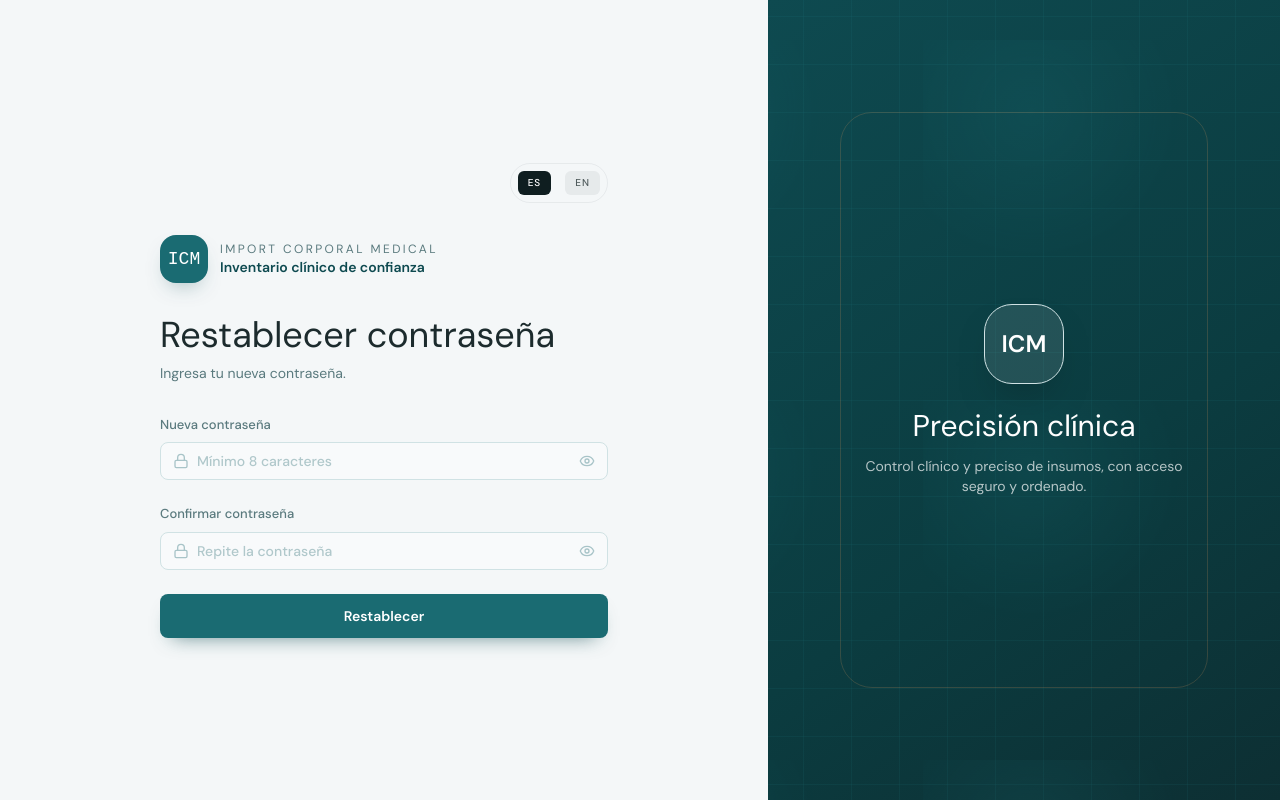
it: ResetPasswordPage — integración › Validaciones client-side › debería mostrar error si la contraseña es menor a 8 caracteres
Type "Ab1!" into the password field labelled "Nueva contraseña". click: (384, 461)
box: [197,451,571,471]
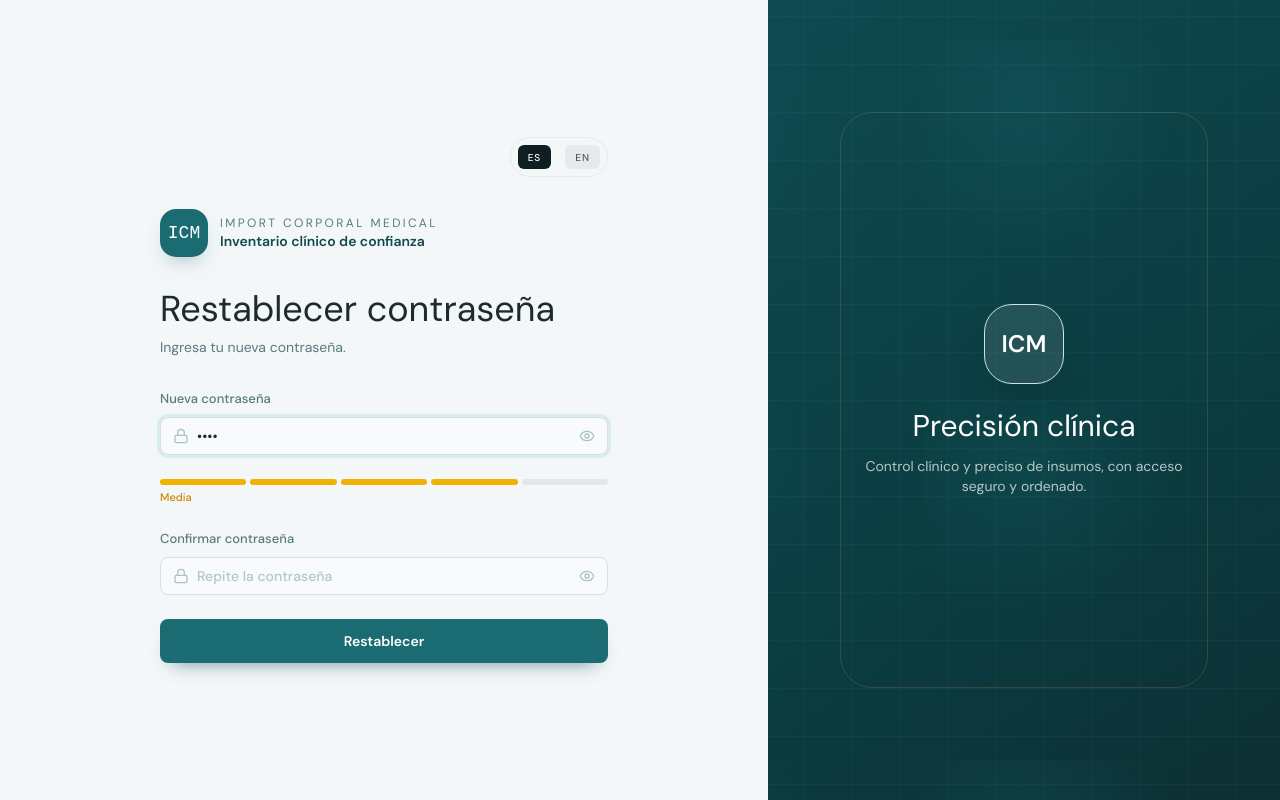
Type "Ab1!" into the password field labelled "Confirmar contraseña". click: (384, 576)
box: [197,566,571,586]
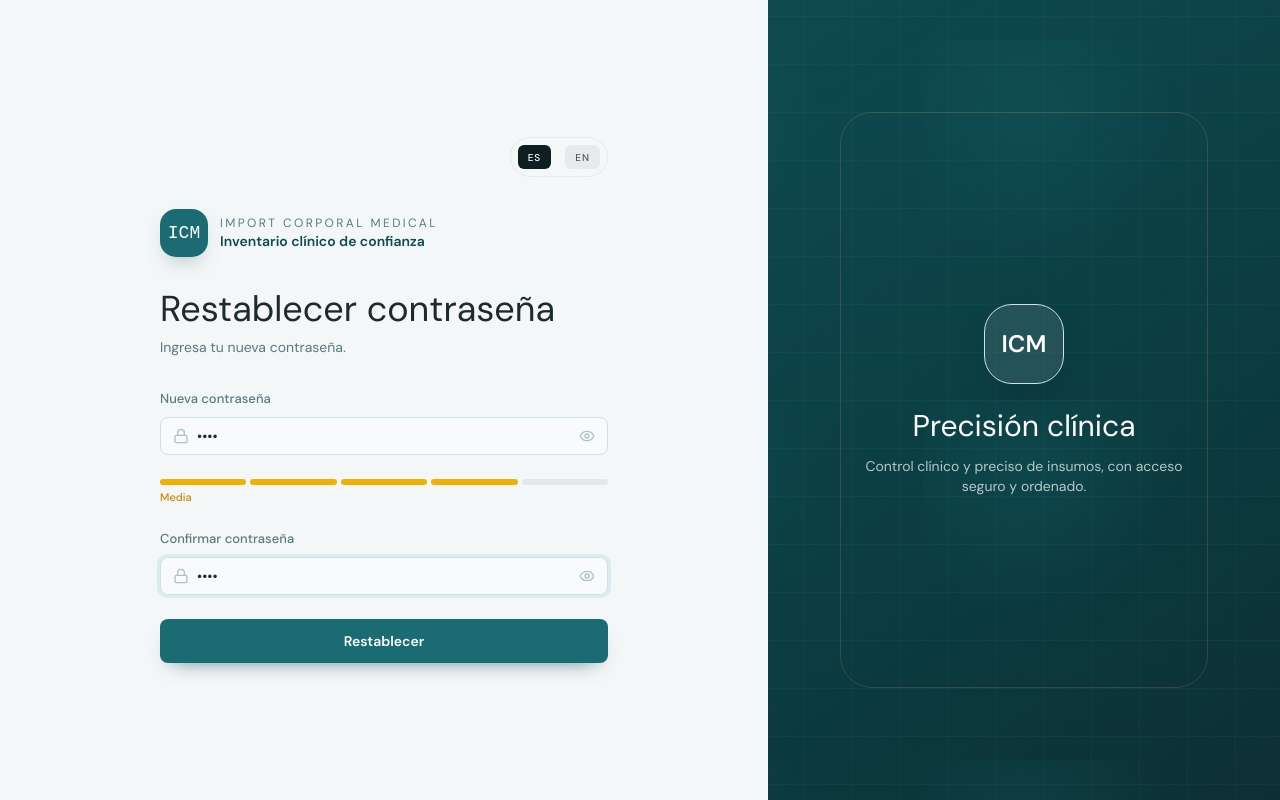
Click the button "Restablecer". click: (384, 641)
box: [160,619,608,663]
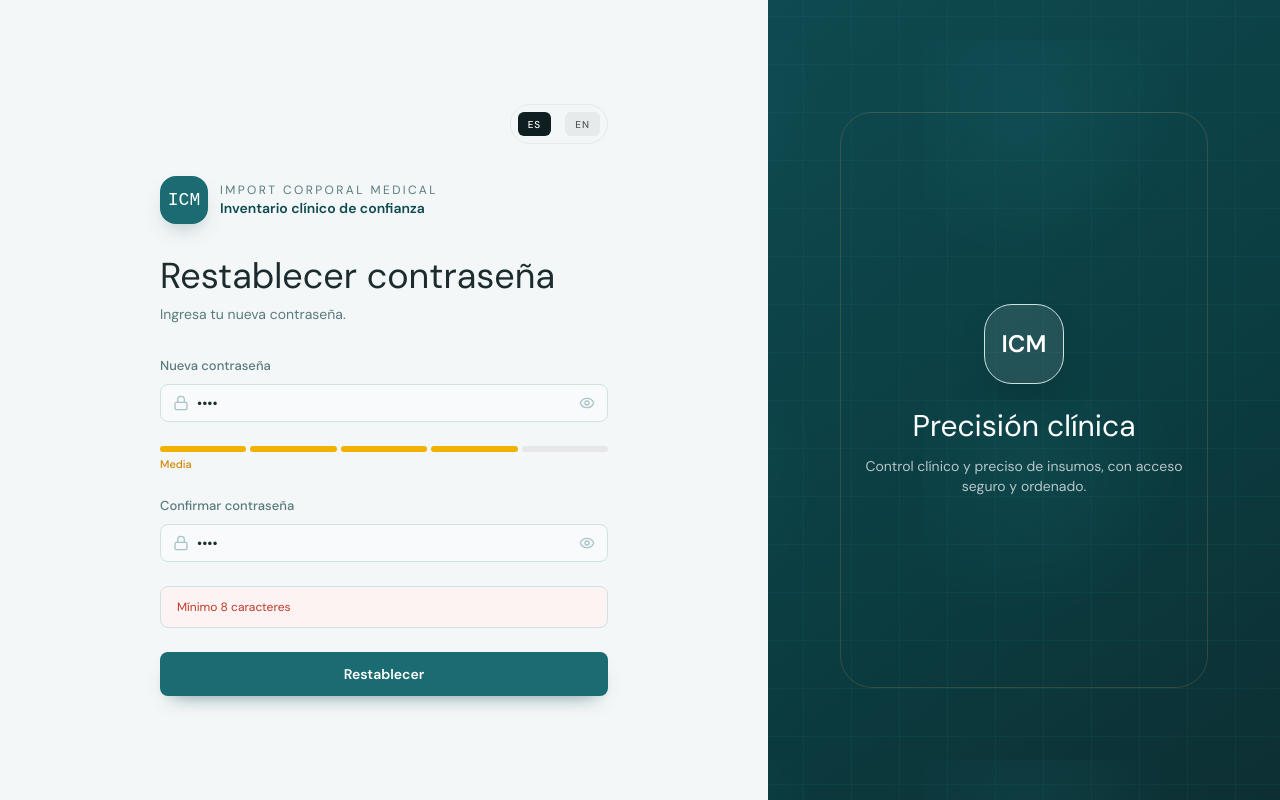
Expected: the text "Mínimo 8 caracteres" is shown, [160,586,608,628]
